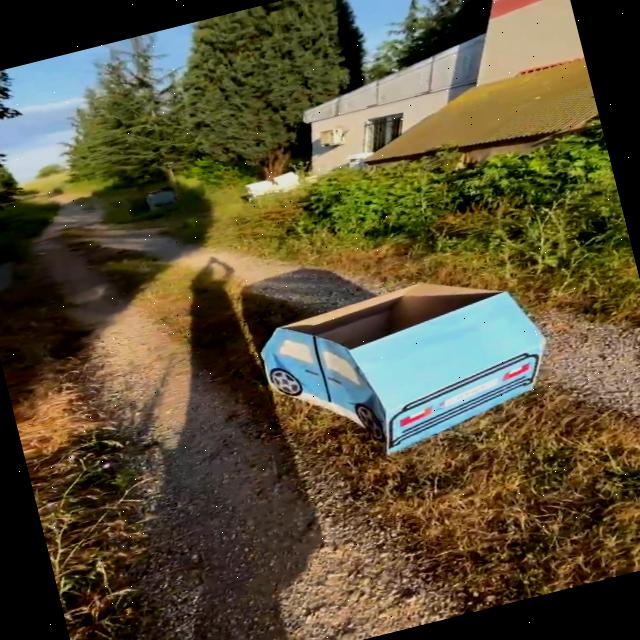blue_car: (207, 229, 605, 511)
